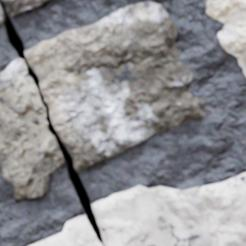brick: (205, 0, 245, 76)
broken_brick: (25, 2, 205, 170), (30, 172, 245, 245), (0, 59, 63, 198), (0, 0, 48, 17), (0, 5, 3, 24)
crack: (0, 1, 103, 244)
